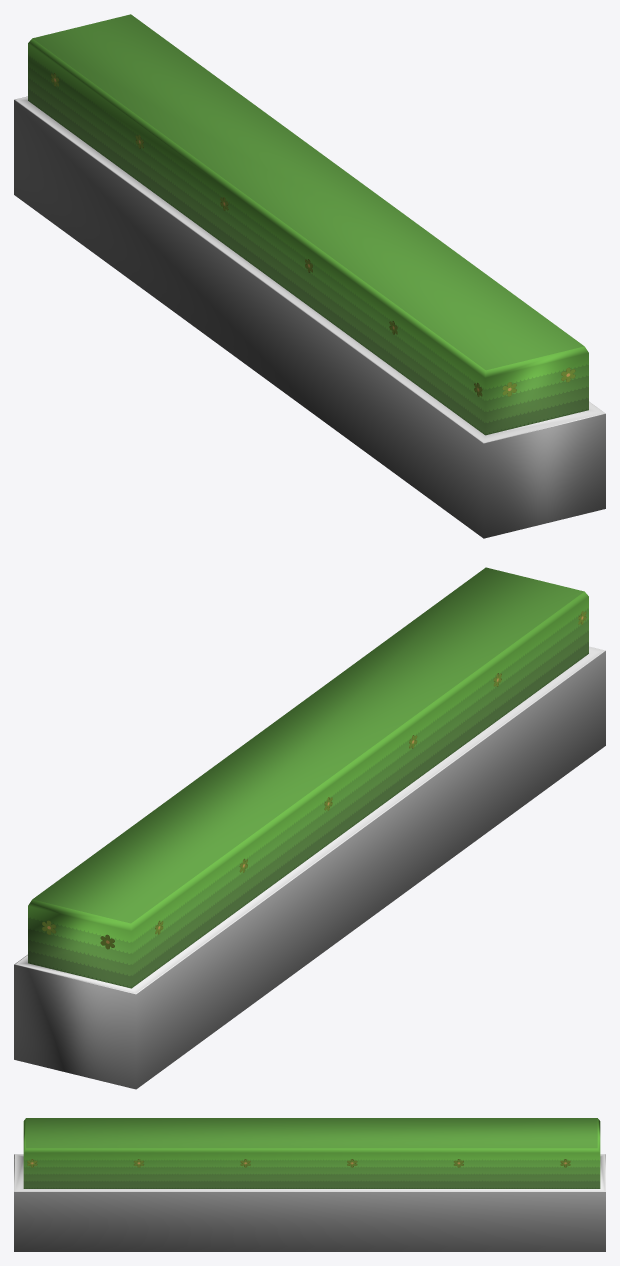
File: PotTanaman.fbx
3 views of the same model, one above another, from view 1: azimuth 30°, elevation 25°; view 2: azimuth 150°, elevation 25°; view 3: azimuth 270°, elevation 25° (orthographic). The views are drawn at different scales.
Parts seen in each view (by area): view 1: PotTanaman_LOD0; view 2: PotTanaman_LOD0; view 3: PotTanaman_LOD0.
Part boxes in pixels (x1,y1,x2,y2): PotTanaman_LOD0: [14, 14, 605, 538]; PotTanaman_LOD0: [14, 567, 605, 1089]; PotTanaman_LOD0: [14, 1118, 605, 1251].
Size of the model in its own units: 144 by 178 by 957.
